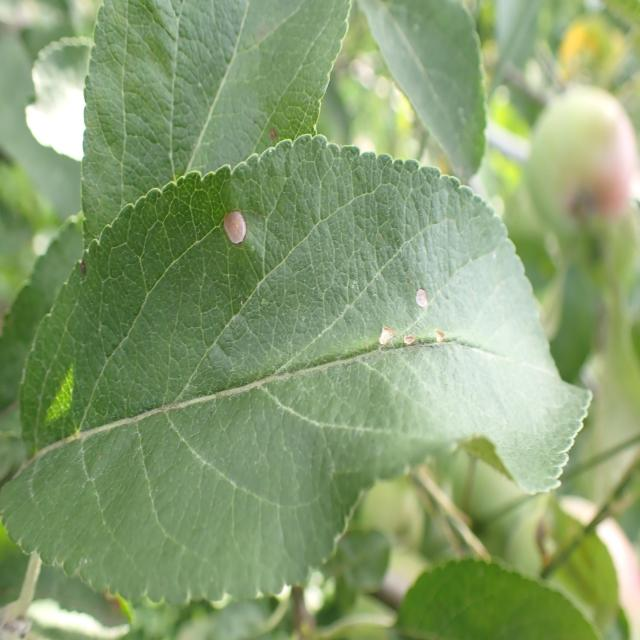Black Rot: (360, 276, 470, 384), (225, 194, 267, 278)
